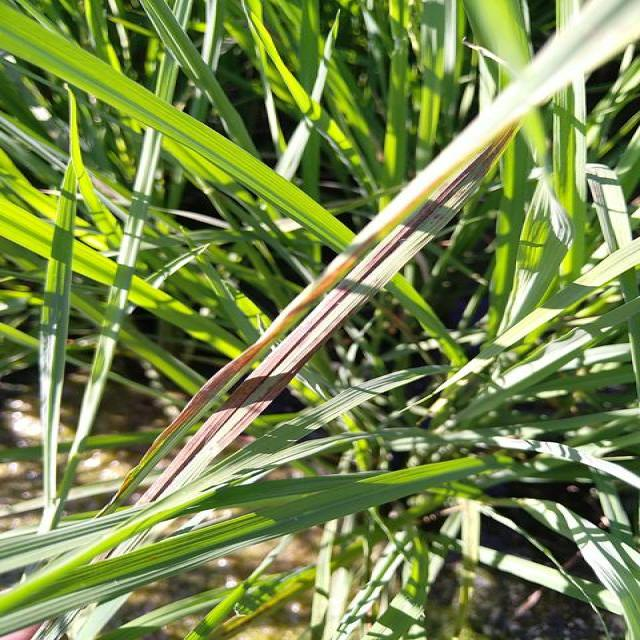Leaf Blight: (136, 148, 497, 507), (109, 210, 407, 506)
